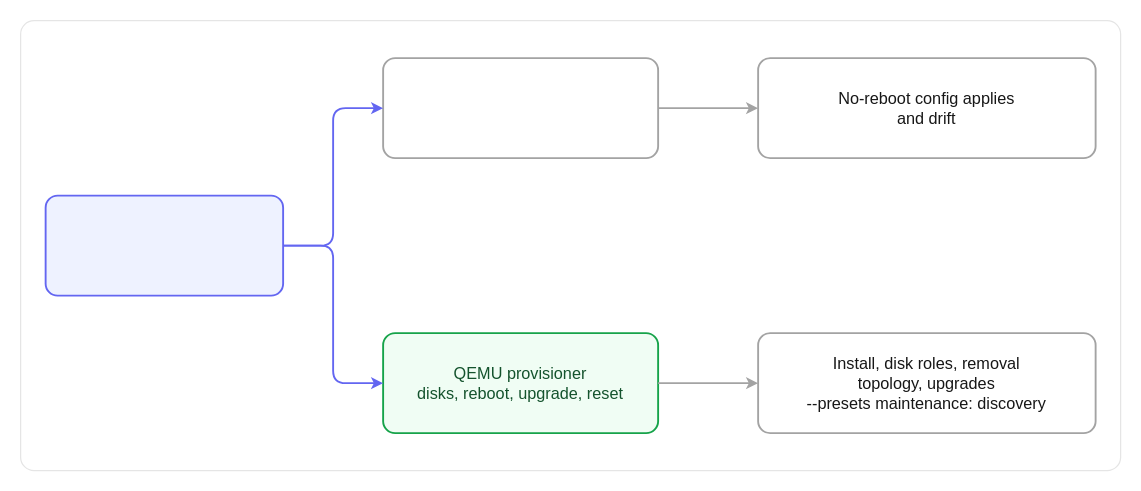
Image size: 1141x491. Some labels were removed from this diagram. The shapes that lost their labels are listed below. From the top down, each one's box as (x1, y1, x2, y2) in pixels, then its label:
(382, 57, 658, 158): Docker provisioner 1 control plane, no disks
(44, 194, 284, 296): talosctl cluster create
